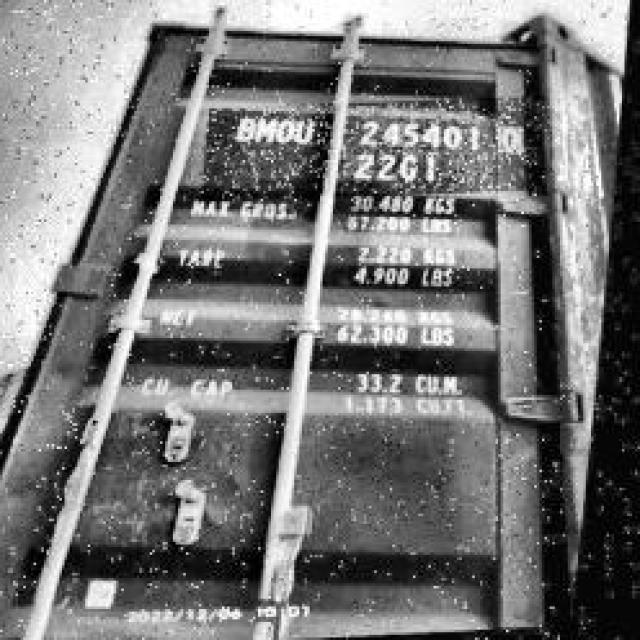ISO: (356, 150, 443, 185)
container_number: (240, 110, 524, 154)
